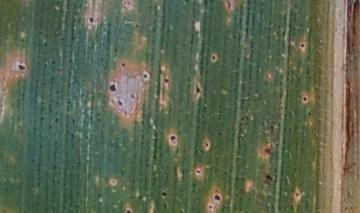tarspot: (106, 81, 120, 94), (166, 131, 179, 145), (15, 61, 28, 73), (86, 13, 97, 27), (211, 192, 225, 203), (192, 166, 204, 178), (162, 73, 171, 88), (114, 98, 126, 109), (304, 108, 316, 119), (298, 40, 308, 52), (300, 93, 309, 106), (141, 72, 151, 83), (193, 84, 202, 96), (121, 204, 133, 213), (118, 60, 127, 72), (209, 53, 219, 63), (159, 189, 169, 198), (202, 140, 211, 150), (264, 173, 273, 181)
